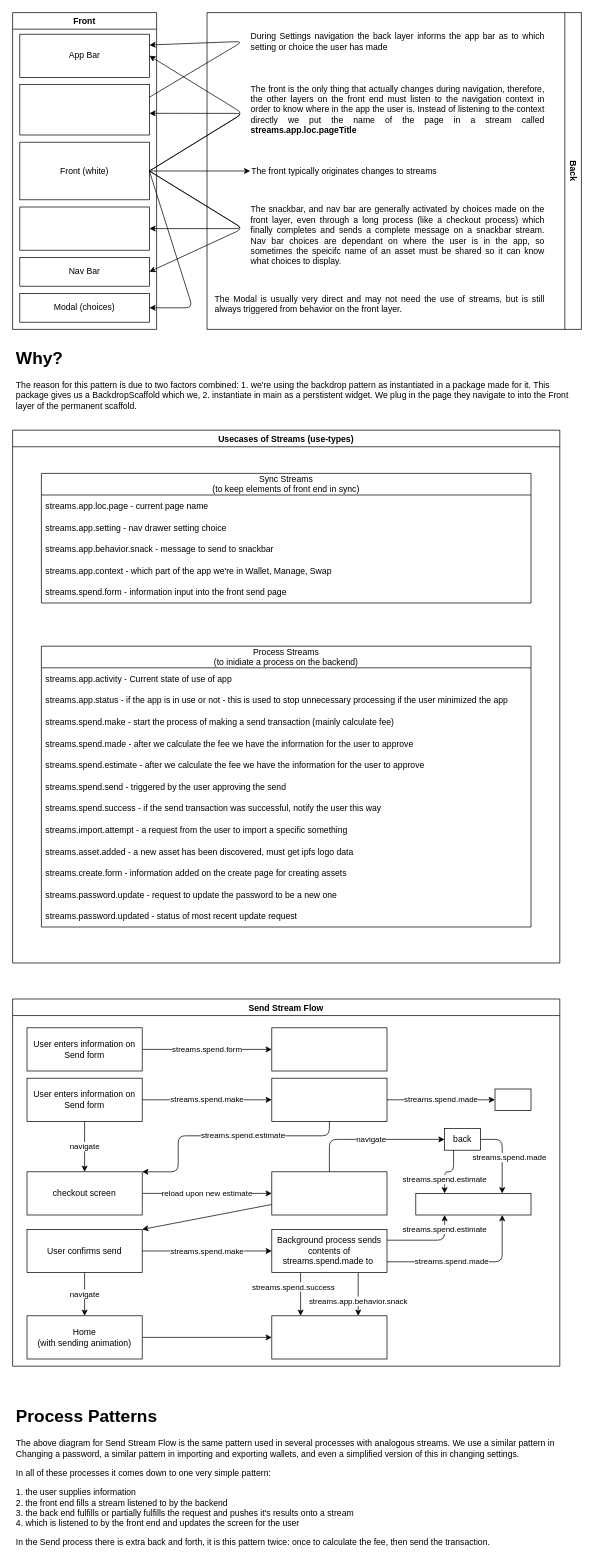
This 594x1566 diagram has some shape labels left out. The shapes that lost their labels are listed below. From the top down, each one's centre as x and y in pixels, then its label:
the point at 84,109: Back (blue)
the point at 84,228: snackbar
the point at 329,1049: Back Layer on front end updates
the point at 329,1099: Background process calculates fee
the point at 512,1099: .value
the point at 329,1193: checkout screen (with fee)
the point at 473,1204: null
the point at 329,1337: Snack Bar
